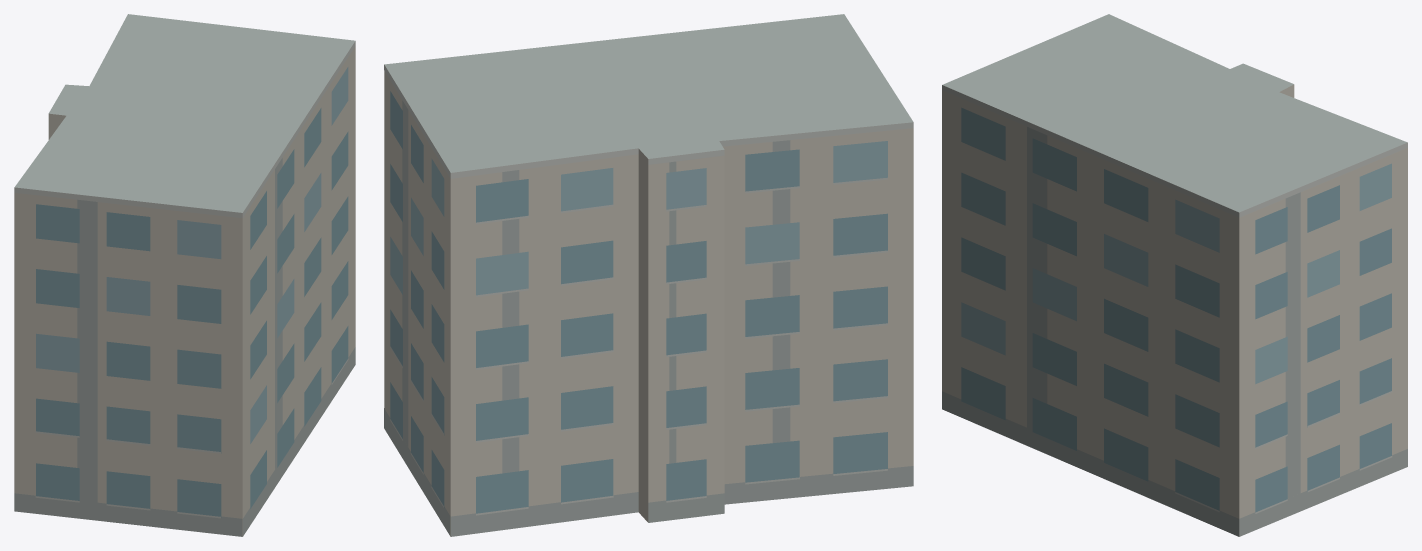
File: survey-upis-32929588.glb
3 views of the same model, side by side, from view 1: azimuth 30°, elevation 25°; view 2: azimuth 150°, elevation 25°; view 3: azimuth 270°, elevation 25° (orthographic). The views are drawn at different scales.
Visible parts, largest first — view 1: survey-upis-32929588.tmp; view 2: survey-upis-32929588.tmp; view 3: survey-upis-32929588.tmp.
Part boxes in pixels (x1,y1,x2,y2): survey-upis-32929588.tmp: [14, 14, 355, 536]; survey-upis-32929588.tmp: [384, 14, 913, 536]; survey-upis-32929588.tmp: [942, 14, 1407, 536].
Size of the model in its own units: 19.69 by 15 by 19.52.
